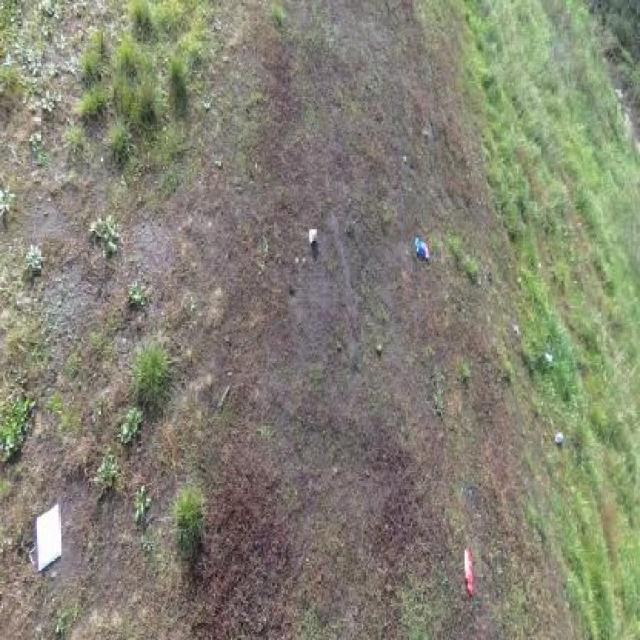Garbage: (35, 502, 62, 571), (464, 545, 473, 597), (415, 236, 430, 259), (309, 229, 318, 245), (556, 433, 564, 444), (545, 353, 552, 363), (459, 485, 463, 495), (469, 487, 472, 495)
